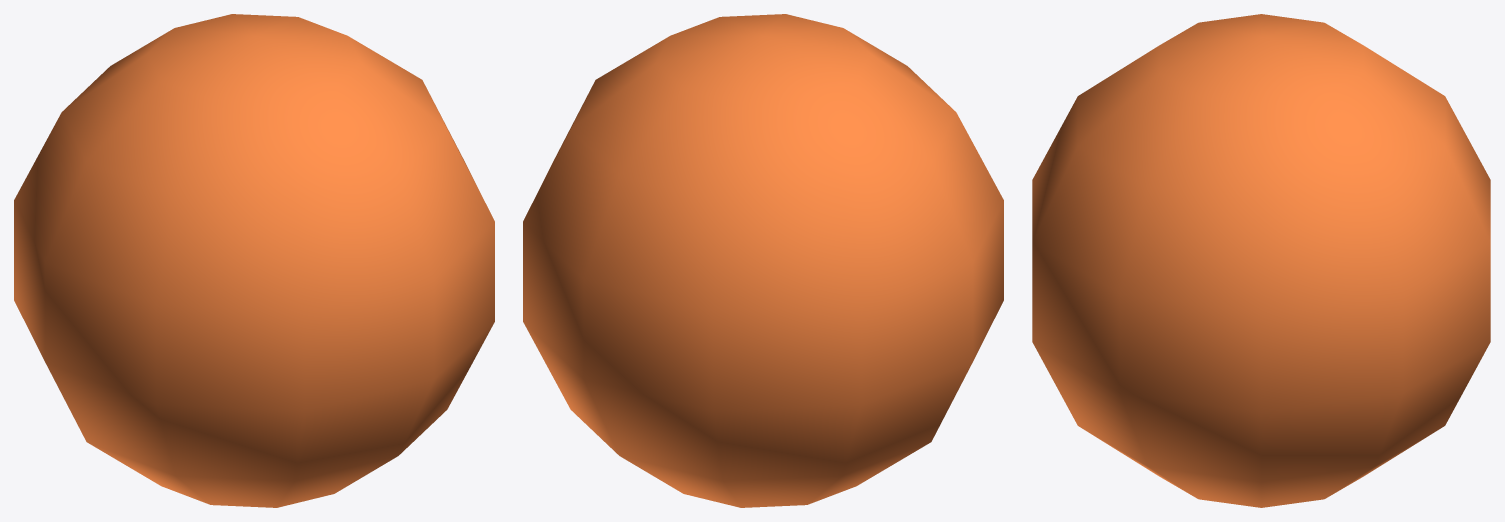
The model's file is bolt.glb.
The picture shows the model from 3 angles, left to right: view 1: azimuth 30°, elevation 25°; view 2: azimuth 150°, elevation 25°; view 3: azimuth 270°, elevation 25°; orthographic projection.
Parts seen in each view (by area): view 1: bolt; view 2: bolt; view 3: bolt.
Part boxes in pixels (bbox=[...]): bolt: bbox=[14, 14, 494, 507]; bolt: bbox=[523, 14, 1003, 507]; bolt: bbox=[1032, 14, 1490, 507].
Size of the model in its own units: 4.29 by 4.4 by 4.08.
Materials: 1 (1 with a texture image).
